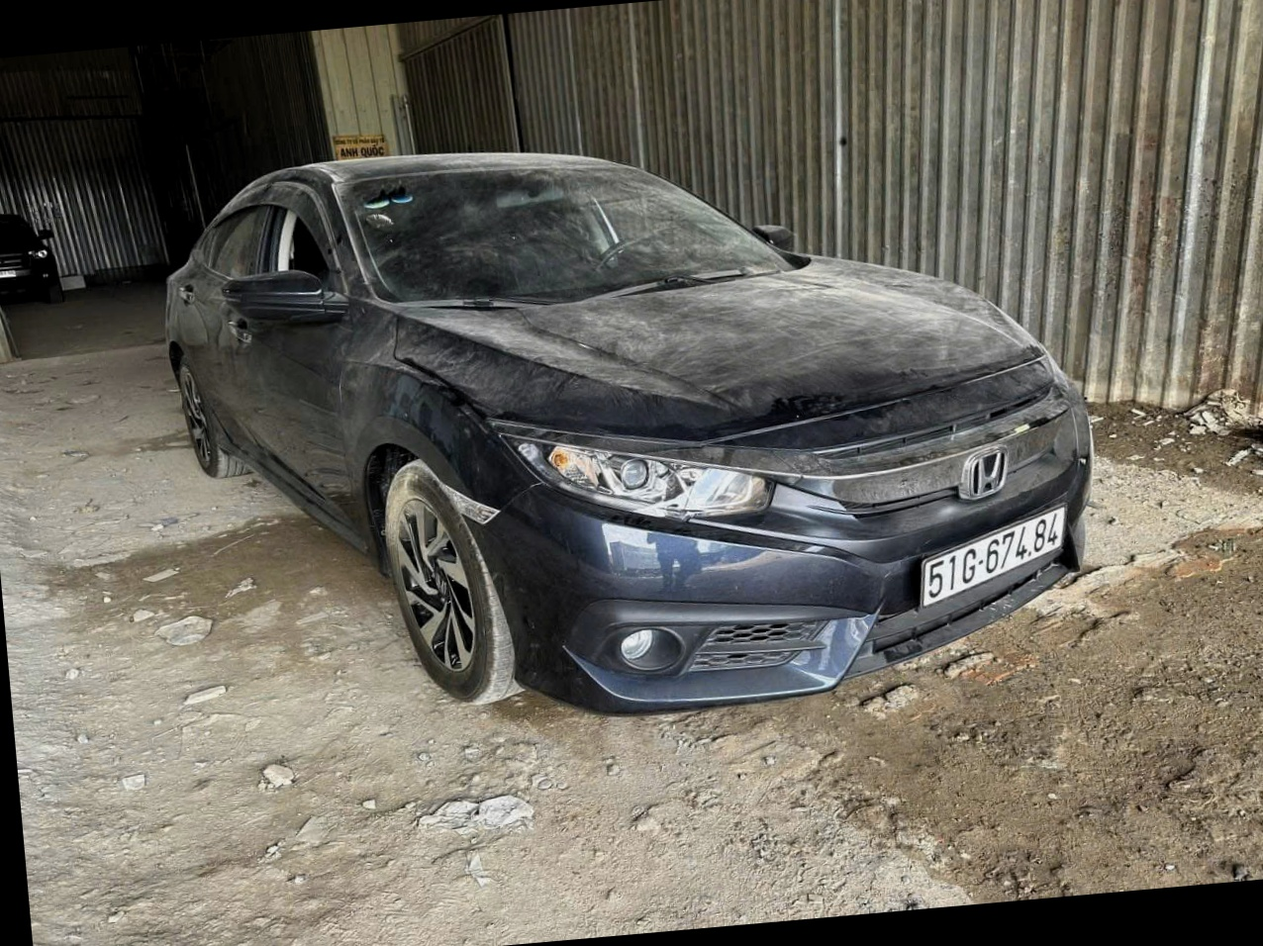Bien-so: (908, 517, 1060, 608)
